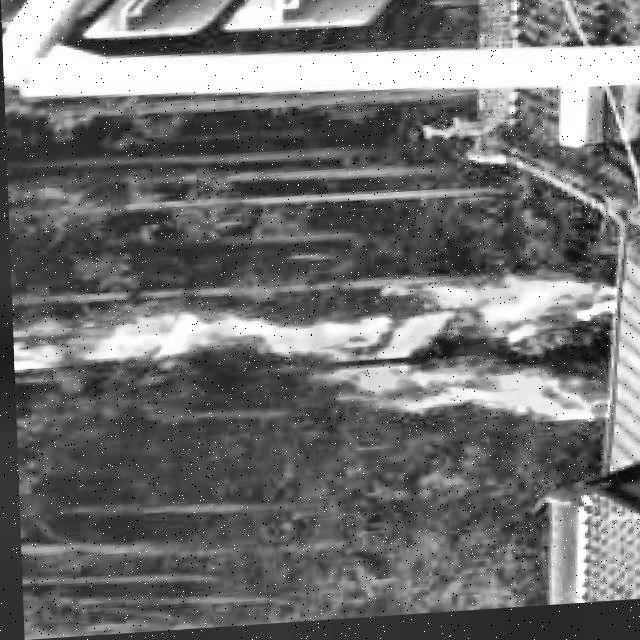Fire: (9, 274, 612, 459)
